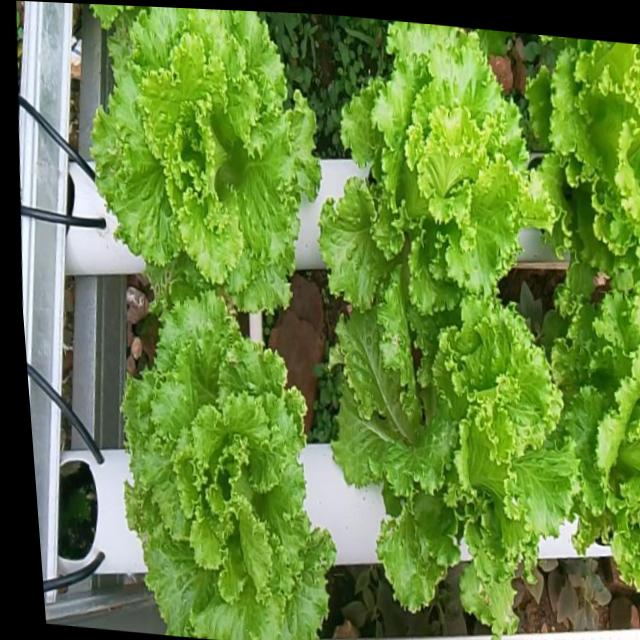Mature: (329, 309, 572, 639), (119, 289, 333, 640), (87, 4, 319, 317), (318, 22, 538, 342), (524, 38, 640, 292), (550, 297, 640, 598)
